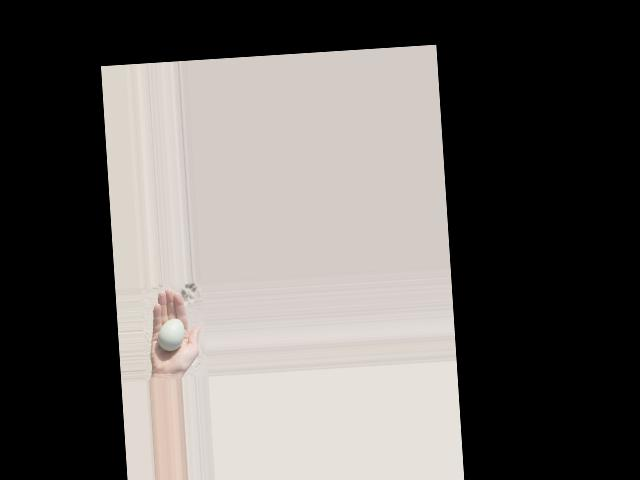egg: (156, 317, 185, 350)
